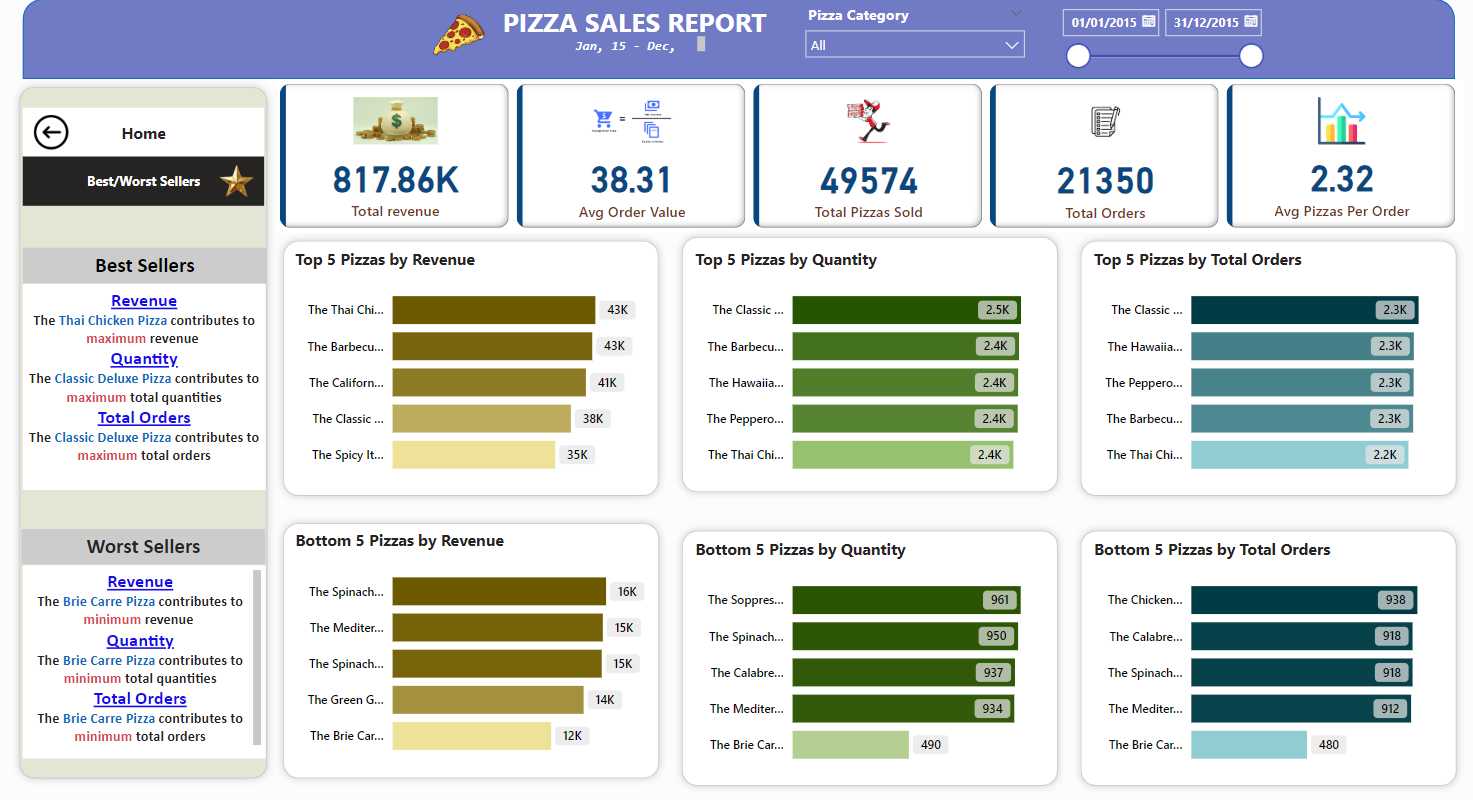

This screenshot's page, from the dashboard's own definition file:
{"tool":"powerbi","page":{"name":"Best/Worst Sellers","canvas":[1500,820],"ordinal":1},"visuals":[{"type":"shape","box":[12.5,81.2,267.5,717.5],"z":0},{"type":"cardVisual","fields":{"Data":["pizza_sales.Total revenue","pizza_sales.Avg Order Value","pizza_sales.Total Pizzas Sold","pizza_sales.Total Orders","pizza_sales.Avg Pizzas Per Order"]},"box":[280,81.2,1206.2,156.2],"z":1000},{"type":"shape","box":[23.8,0,1452.5,81.2],"z":2000},{"type":"textbox","box":[506.2,0,287.7,48.1],"z":3000},{"type":"textbox","box":[579,33.3,142,33.3],"z":4000},{"type":"image","box":[425.9,0,80.2,72.8],"z":5000},{"type":"shape","box":[280,237.5,397,275],"z":6000},{"type":"textbox","box":[23.8,252.5,247.5,36.2],"z":7000},{"type":"textbox","box":[23.8,288.8,246.2,208.8],"z":8000},{"type":"textbox","box":[22.5,537.5,247.5,36.2],"z":9000},{"type":"textbox","box":[23.8,573.8,246.2,196.2],"z":10000},{"type":"slicer","fields":{"Values":["pizza_sales.pizza_category"]},"box":[807.5,0,242.5,63.8],"z":11000},{"type":"slicer","fields":{"Values":["pizza_sales.order_date"]},"box":[1066.2,0,225,72.5],"z":12000},{"type":"shape","box":[685,233.8,397.5,275],"z":13000},{"type":"shape","box":[1088.8,237.5,397.5,275],"z":14000},{"type":"shape","box":[280,523.8,397.5,275],"z":15000},{"type":"shape","box":[685,531.2,397.5,275],"z":16000},{"type":"shape","box":[1088.8,531.2,397.5,275],"z":17000},{"type":"barChart","title":"Top 5 Pizzas by Revenue","fields":{"Category":["pizza_sales.pizza_name"],"Y":["pizza_sales.Total revenue"]},"box":[295,252.5,365,245],"z":18000},{"type":"barChart","title":"Bottom 5 Pizzas by Revenue","fields":{"Category":["pizza_sales.pizza_name"],"Y":["pizza_sales.Total revenue"]},"box":[295,537.5,365,245],"z":19000},{"type":"barChart","title":"Top 5 Pizzas by Quantity","fields":{"Category":["pizza_sales.pizza_name"],"Y":["pizza_sales.Total Pizzas Sold"]},"box":[701.2,252.5,365,245],"z":20000},{"type":"barChart","title":"Bottom 5 Pizzas by Quantity","fields":{"Category":["pizza_sales.pizza_name"],"Y":["pizza_sales.Total Pizzas Sold"]},"box":[701.2,546.2,365,245],"z":21000},{"type":"barChart","title":"Top 5 Pizzas by Total Orders","fields":{"Category":["pizza_sales.pizza_name"],"Y":["pizza_sales.Total Orders"]},"box":[1105,252.5,365,245],"z":22000},{"type":"barChart","title":"Bottom 5 Pizzas by Total Orders","fields":{"Category":["pizza_sales.pizza_name"],"Y":["pizza_sales.Total Orders"]},"box":[1105,546.2,365,245],"z":23000},{"type":"pageNavigator","box":[24.3,110,245.7,50],"z":23001},{"type":"pageNavigator","box":[24.3,160,245.7,50],"z":23002},{"type":"image","box":[24.3,110,57.1,50],"z":23003},{"type":"image","box":[211.4,160,58.6,50],"z":23004}]}

Visuals, with their boxes in screenshot pixels (x1, y1, x2, y2), scaled from the page's 1500x820 canvas onto the 1473x800 screenshot:
shape: {"x1": 12, "y1": 79, "x2": 275, "y2": 779}
cardVisual - pizza_sales.Total revenue x pizza_sales.Avg Order Value: {"x1": 275, "y1": 79, "x2": 1459, "y2": 232}
shape: {"x1": 23, "y1": 0, "x2": 1450, "y2": 79}
textbox: {"x1": 497, "y1": 0, "x2": 780, "y2": 47}
textbox: {"x1": 569, "y1": 32, "x2": 708, "y2": 65}
image: {"x1": 418, "y1": 0, "x2": 497, "y2": 71}
shape: {"x1": 275, "y1": 232, "x2": 665, "y2": 500}
textbox: {"x1": 23, "y1": 246, "x2": 266, "y2": 282}
textbox: {"x1": 23, "y1": 282, "x2": 265, "y2": 485}
textbox: {"x1": 22, "y1": 524, "x2": 265, "y2": 560}
textbox: {"x1": 23, "y1": 560, "x2": 265, "y2": 751}
slicer - pizza_sales.pizza_category: {"x1": 793, "y1": 0, "x2": 1031, "y2": 62}
slicer - pizza_sales.order_date: {"x1": 1047, "y1": 0, "x2": 1268, "y2": 71}
shape: {"x1": 673, "y1": 228, "x2": 1063, "y2": 496}
shape: {"x1": 1069, "y1": 232, "x2": 1460, "y2": 500}
shape: {"x1": 275, "y1": 511, "x2": 665, "y2": 779}
shape: {"x1": 673, "y1": 518, "x2": 1063, "y2": 787}
shape: {"x1": 1069, "y1": 518, "x2": 1460, "y2": 787}
"Top 5 Pizzas by Revenue" barChart: {"x1": 290, "y1": 246, "x2": 648, "y2": 485}
"Bottom 5 Pizzas by Revenue" barChart: {"x1": 290, "y1": 524, "x2": 648, "y2": 763}
"Top 5 Pizzas by Quantity" barChart: {"x1": 689, "y1": 246, "x2": 1047, "y2": 485}
"Bottom 5 Pizzas by Quantity" barChart: {"x1": 689, "y1": 533, "x2": 1047, "y2": 772}
"Top 5 Pizzas by Total Orders" barChart: {"x1": 1085, "y1": 246, "x2": 1444, "y2": 485}
"Bottom 5 Pizzas by Total Orders" barChart: {"x1": 1085, "y1": 533, "x2": 1444, "y2": 772}
pageNavigator: {"x1": 24, "y1": 107, "x2": 265, "y2": 156}
pageNavigator: {"x1": 24, "y1": 156, "x2": 265, "y2": 205}
image: {"x1": 24, "y1": 107, "x2": 80, "y2": 156}
image: {"x1": 208, "y1": 156, "x2": 265, "y2": 205}
